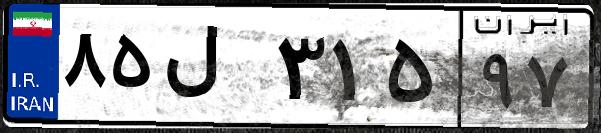1: (330, 28, 385, 110)
3: (270, 28, 330, 110)
5: (385, 28, 445, 110), (110, 28, 158, 98)
7: (525, 38, 570, 115)
8: (57, 26, 110, 100)
9: (475, 38, 525, 113)
ل: (158, 20, 270, 120)
